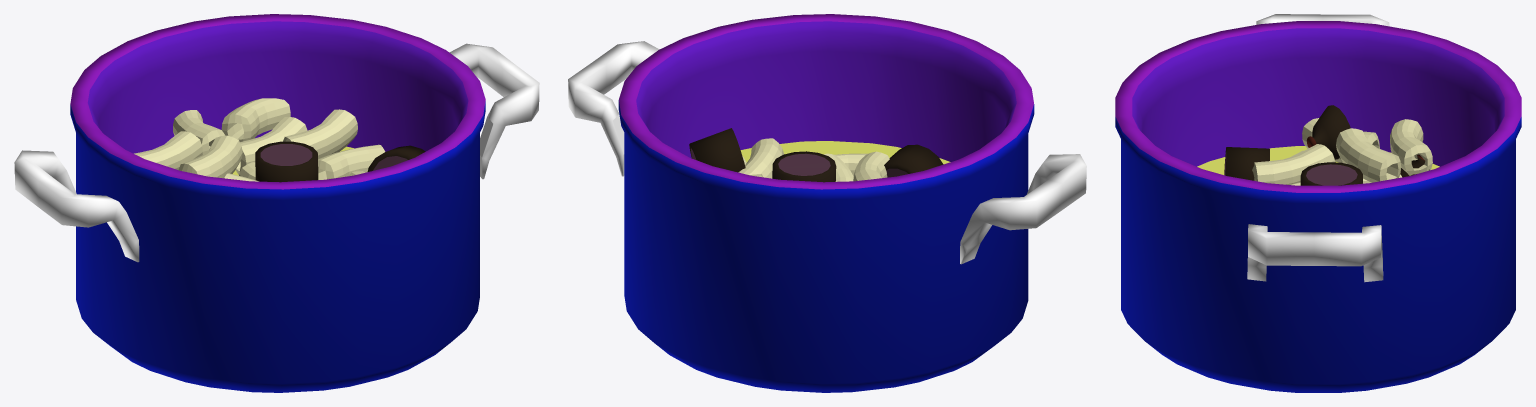
Rendered from mixed_mac_pot.fbx.
3 views of the same model, side by side, from view 1: azimuth 30°, elevation 25°; view 2: azimuth 150°, elevation 25°; view 3: azimuth 270°, elevation 25° (orthographic).
Parts seen in each view (by area): view 1: Pot, Noodles, Handles, HotdogSlice1; view 2: Pot, Handles, HotdogSlice1, Noodles, Cheese.002, HotdogSlice2; view 3: Pot, Handles, Noodles, HotdogSlice1, HotdogSlice2, Cheese.002.
Part boxes in pixels (x1=…): Pot: x1=70, y1=14, x2=485, y2=392; Noodles: x1=134, y1=98, x2=385, y2=181; Handles: x1=14, y1=43, x2=539, y2=262; HotdogSlice1: x1=255, y1=141, x2=425, y2=182; Pot: x1=618, y1=14, x2=1034, y2=392; Handles: x1=568, y1=41, x2=1086, y2=264; HotdogSlice1: x1=689, y1=128, x2=836, y2=182; Noodles: x1=738, y1=138, x2=889, y2=181; Cheese.002: x1=740, y1=141, x2=950, y2=164; HotdogSlice2: x1=884, y1=144, x2=943, y2=177; Pot: x1=1115, y1=21, x2=1521, y2=392; Handles: x1=1247, y1=14, x2=1389, y2=282; Noodles: x1=1252, y1=118, x2=1432, y2=185; HotdogSlice1: x1=1300, y1=105, x2=1362, y2=185; HotdogSlice2: x1=1224, y1=147, x2=1425, y2=180; Cheese.002: x1=1197, y1=146, x2=1439, y2=174.
Bounding box in the file's own units: 83.61 × 35.99 × 62.94.
